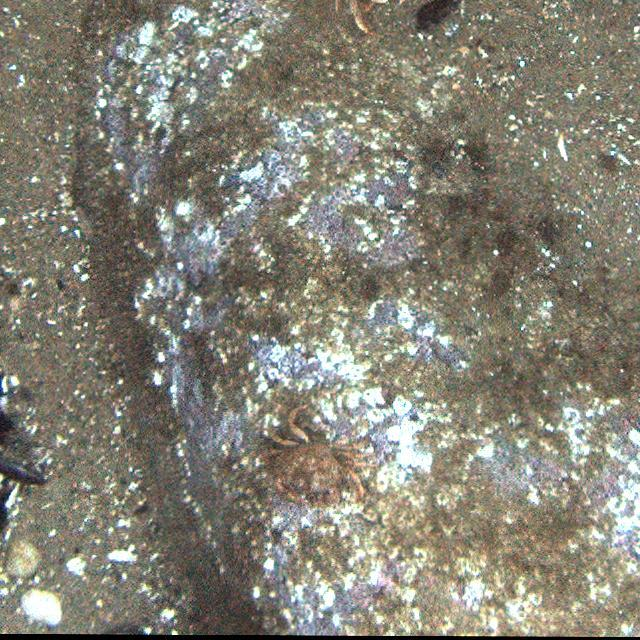crab: (252, 406, 376, 508)
